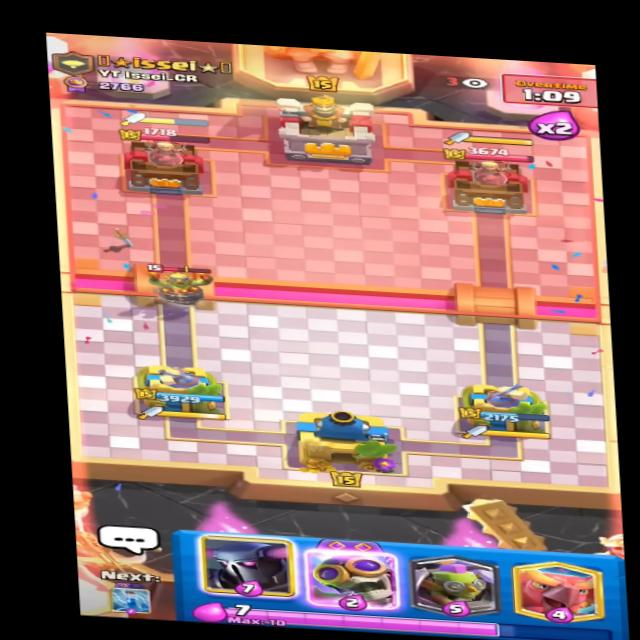goblin-demolisher: (143, 258, 224, 310)
